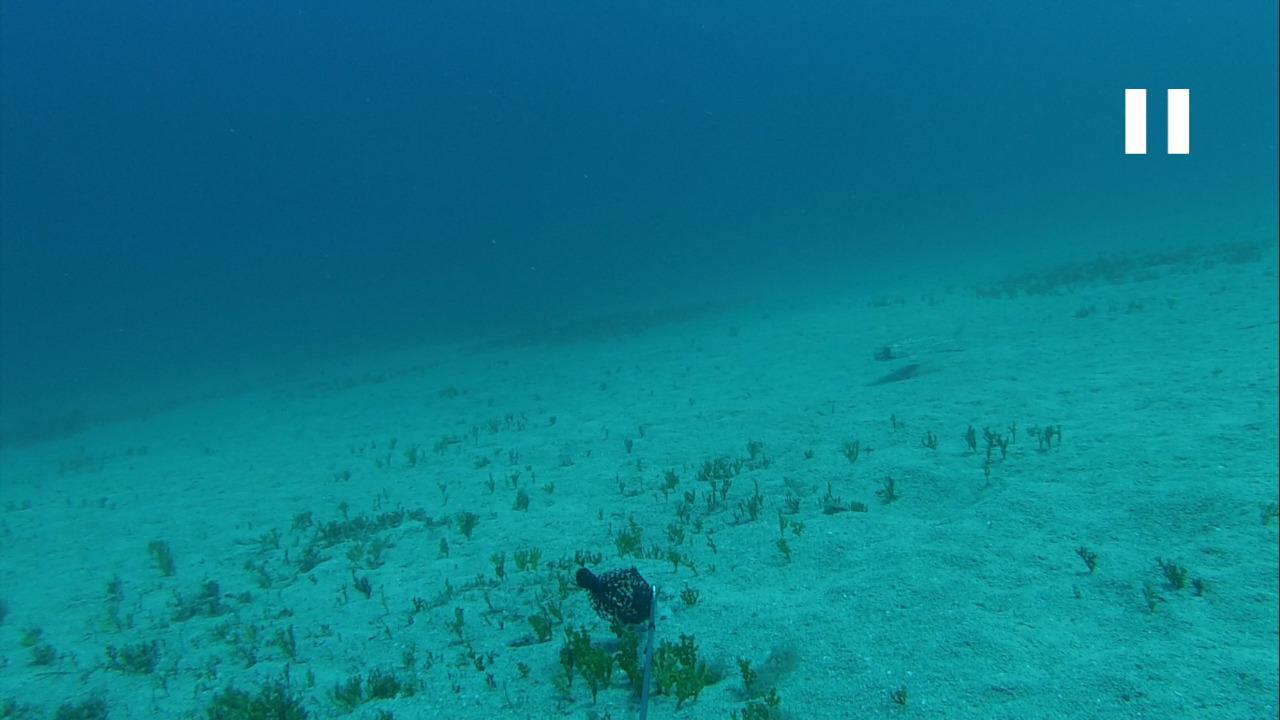dactylopterus: (860, 323, 981, 368)
